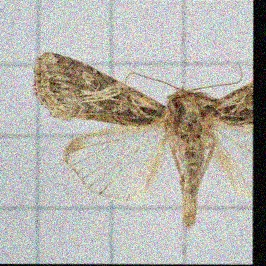Spodoptera litura: (32, 51, 252, 229)
